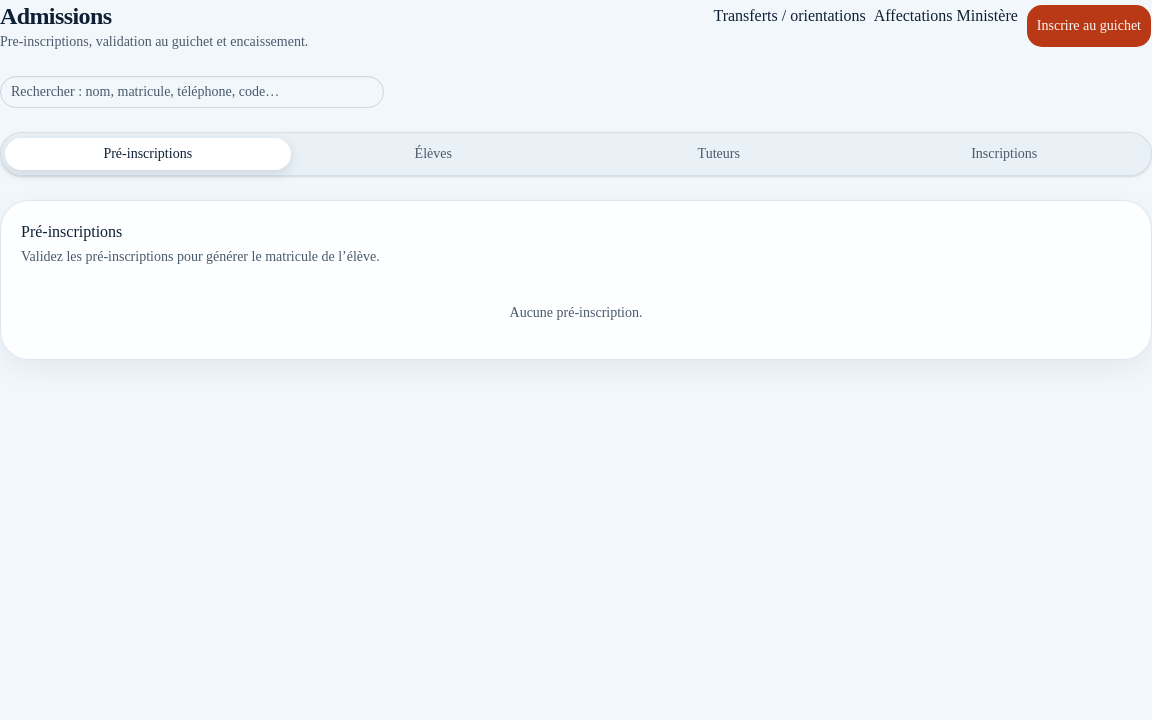
Test: n'affiche que la première page d'élèves avec le compteur
Click the tab "Élèves": [433, 154] box [290, 138, 576, 170]
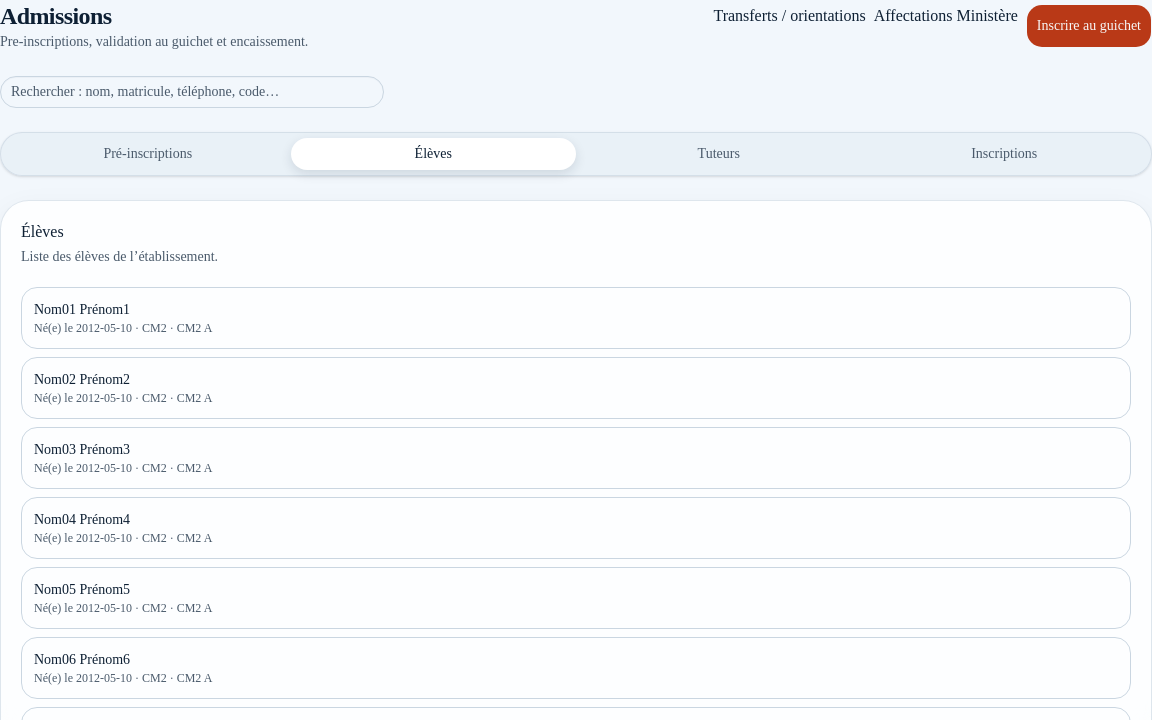
Expected: the text "Nom01" is shown, [34, 302, 76, 317]
